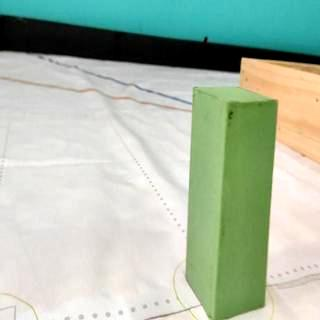greenbox: (185, 83, 278, 320)
